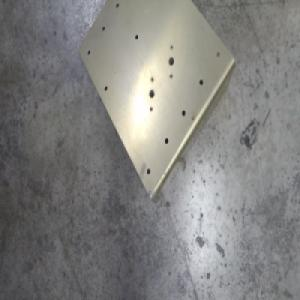MetalSheet: (76, 0, 237, 204)
